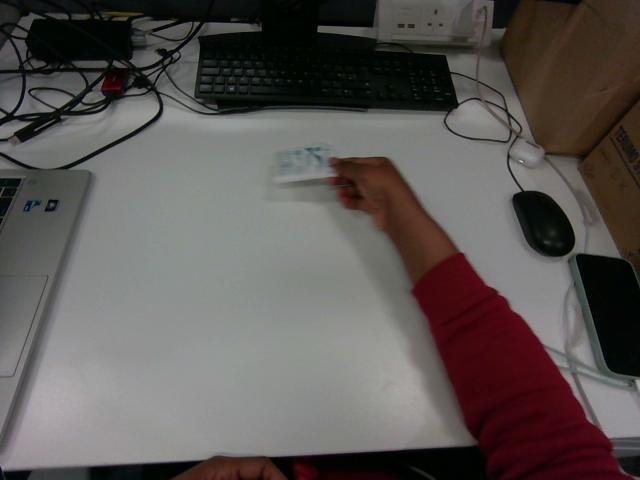gauze: (274, 143, 335, 183)
